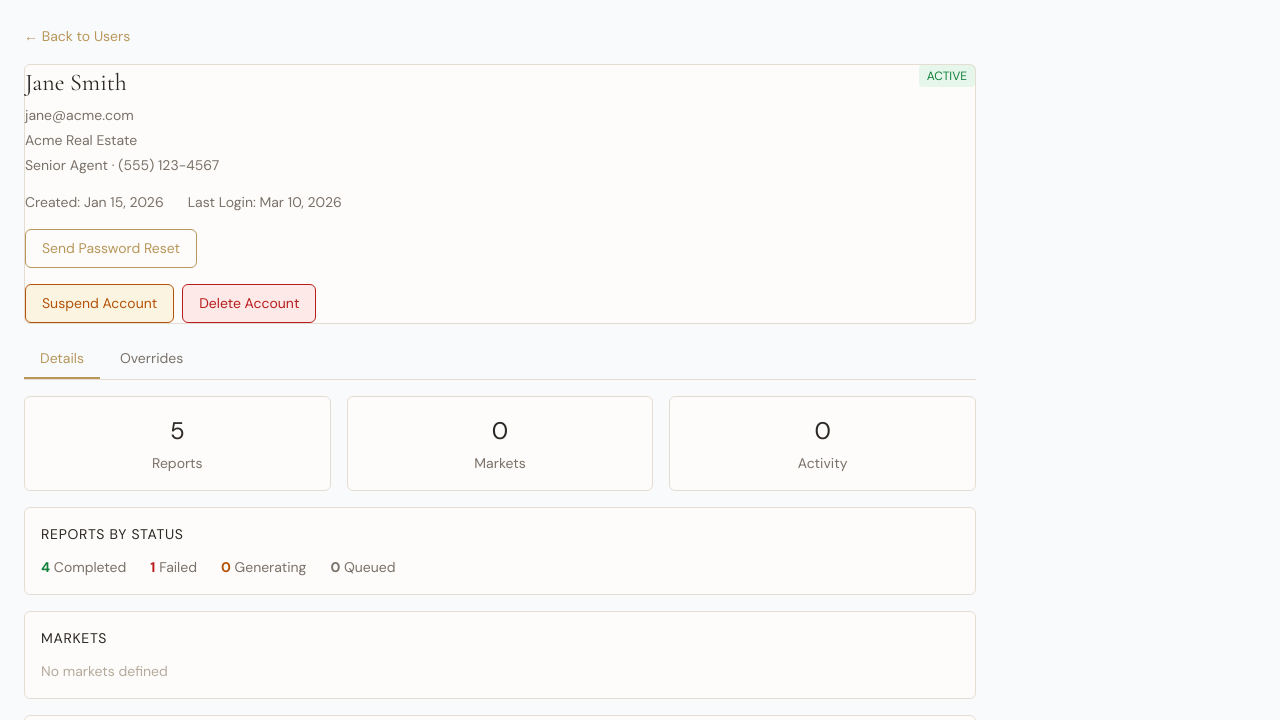
Test: Delete Account › CMP-delete-08: should show error message on API failure
# Open confirmation and confirm
Click the button "Delete Account" at (249, 304), box [182,284,316,323]
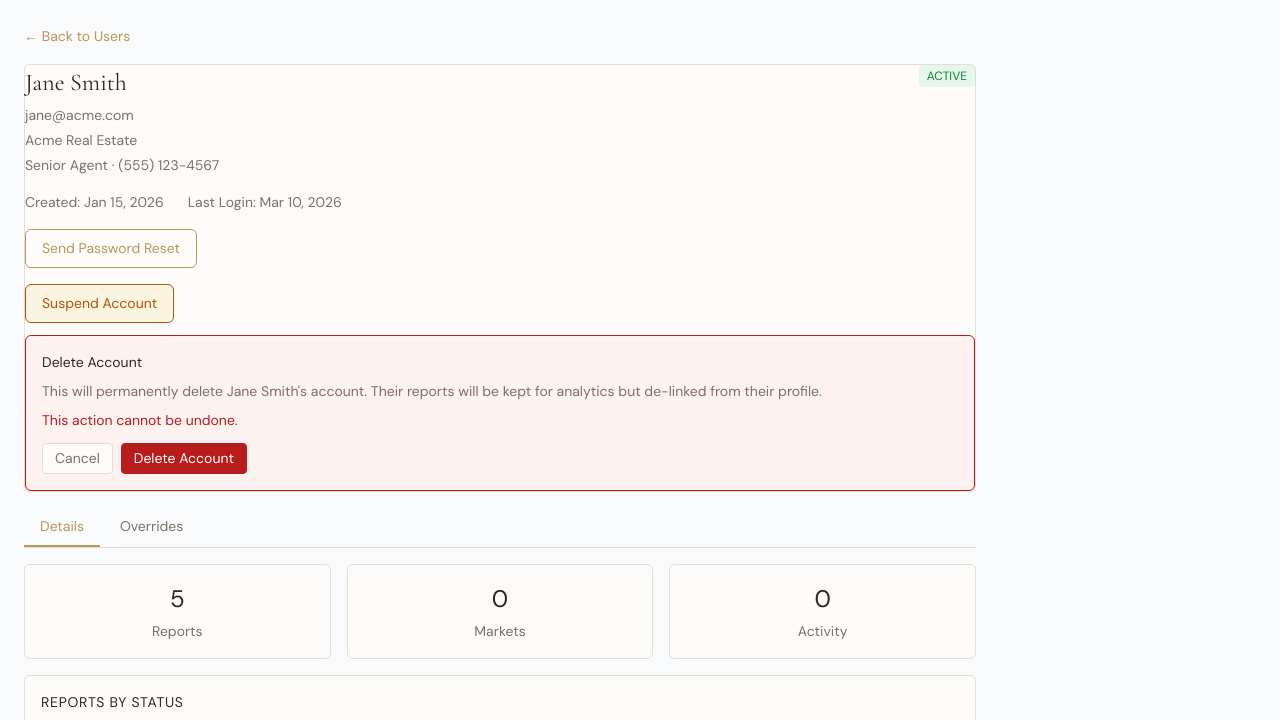
Click the button "Delete Account" at (184, 458), box [121,443,247,474]
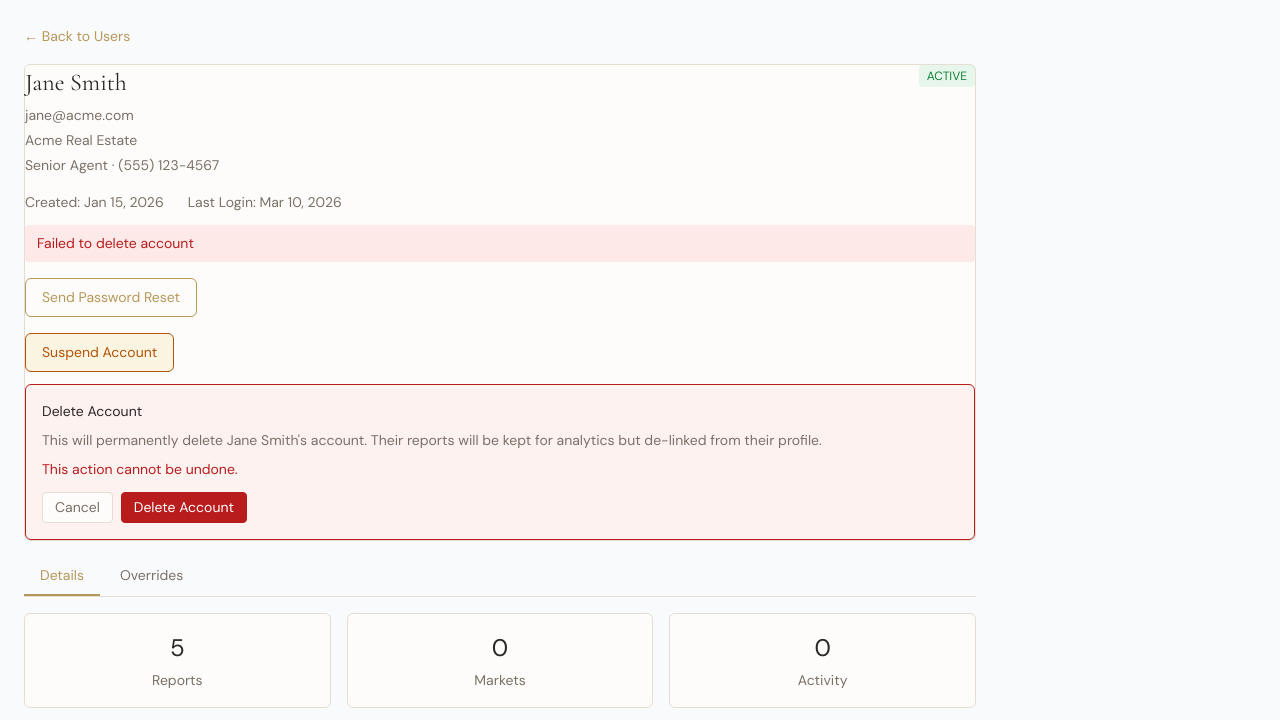
Expected: the text "Failed to delete account" is shown, [25,225,975,262]
